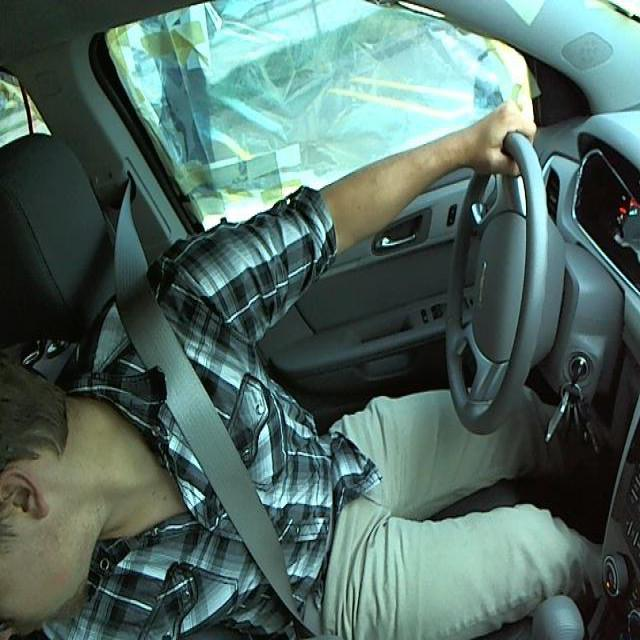seatbelt: (138, 336, 336, 639)
